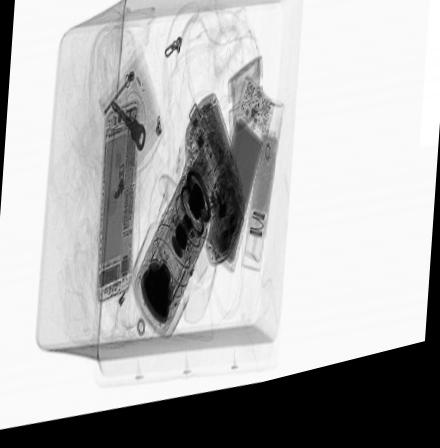Powerbank: (205, 95, 273, 290)
